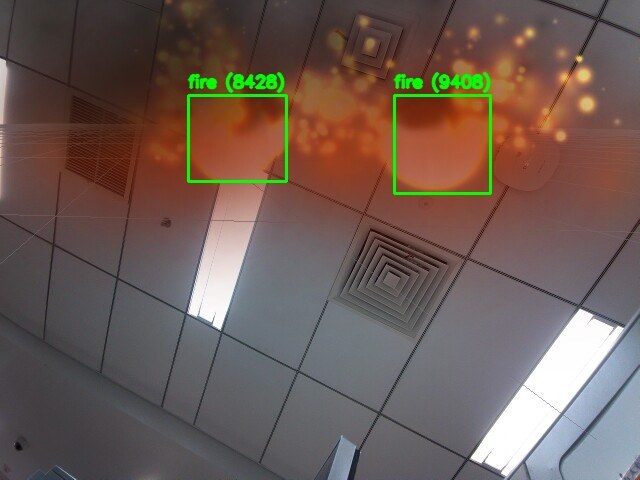fire: (394, 95, 490, 193), (188, 95, 286, 181)
